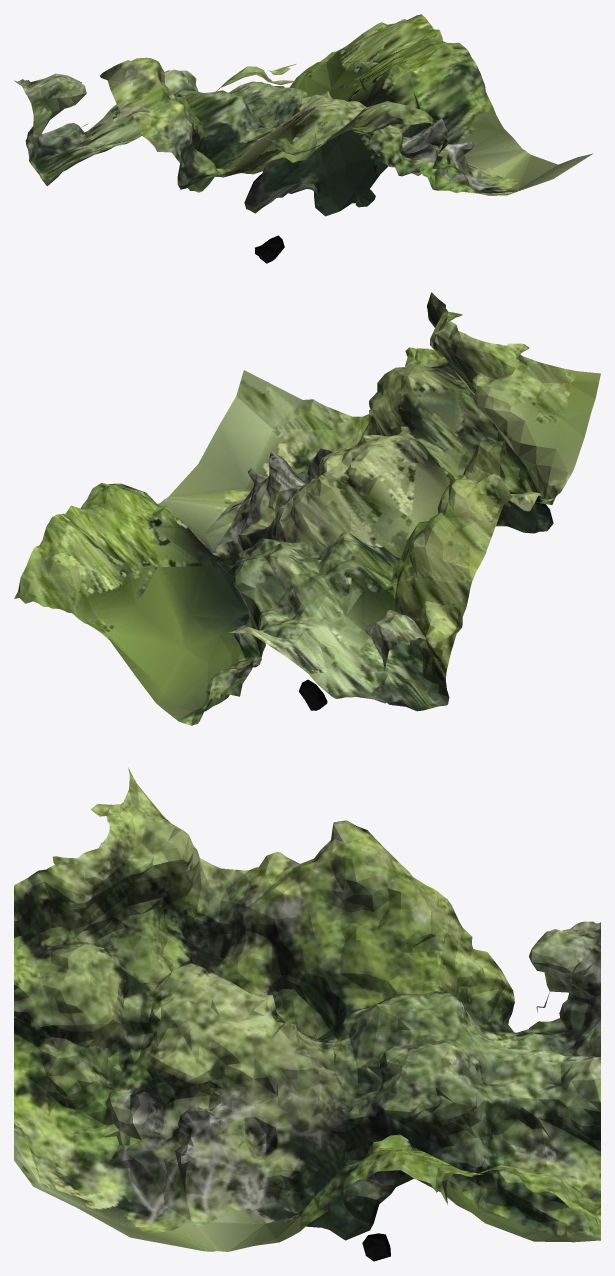
3 renders of one model, top to bottom at view 1: azimuth 30°, elevation 25°; view 2: azimuth 150°, elevation 25°; view 3: azimuth 270°, elevation 25°, orthographic. The views are drawn at different scales.
Size of the model in its own units: 26.11 by 19.25 by 26.11.
Materials: 4 (4 with a texture image).
